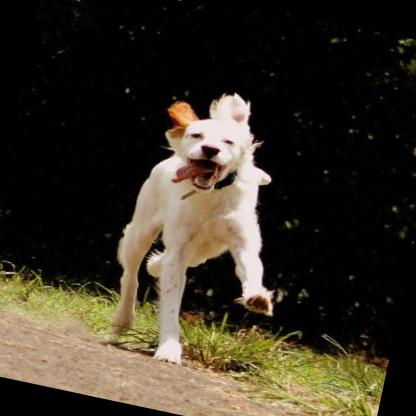English_setter: (90, 72, 322, 385)
